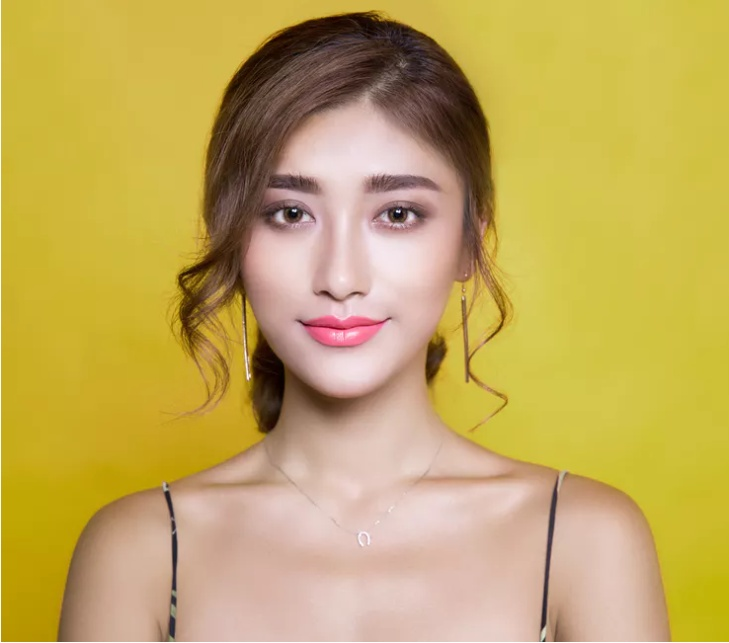face: (244, 107, 465, 404)
